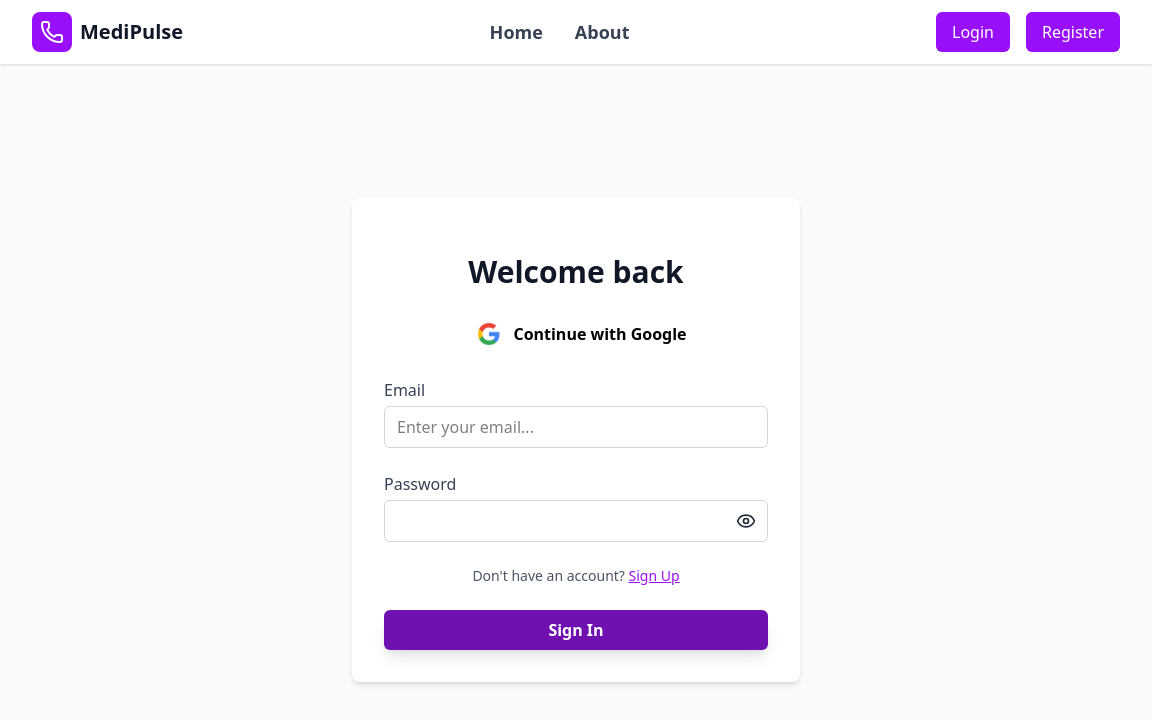
Scenario: form tests › should not login with invalid credentials
expect the heading "Welcome back" is shown: met, box [468,251,684,292]
Type "wronguser@example.com" into the field labelled "Email" at (576, 427), box [384,406,768,448]
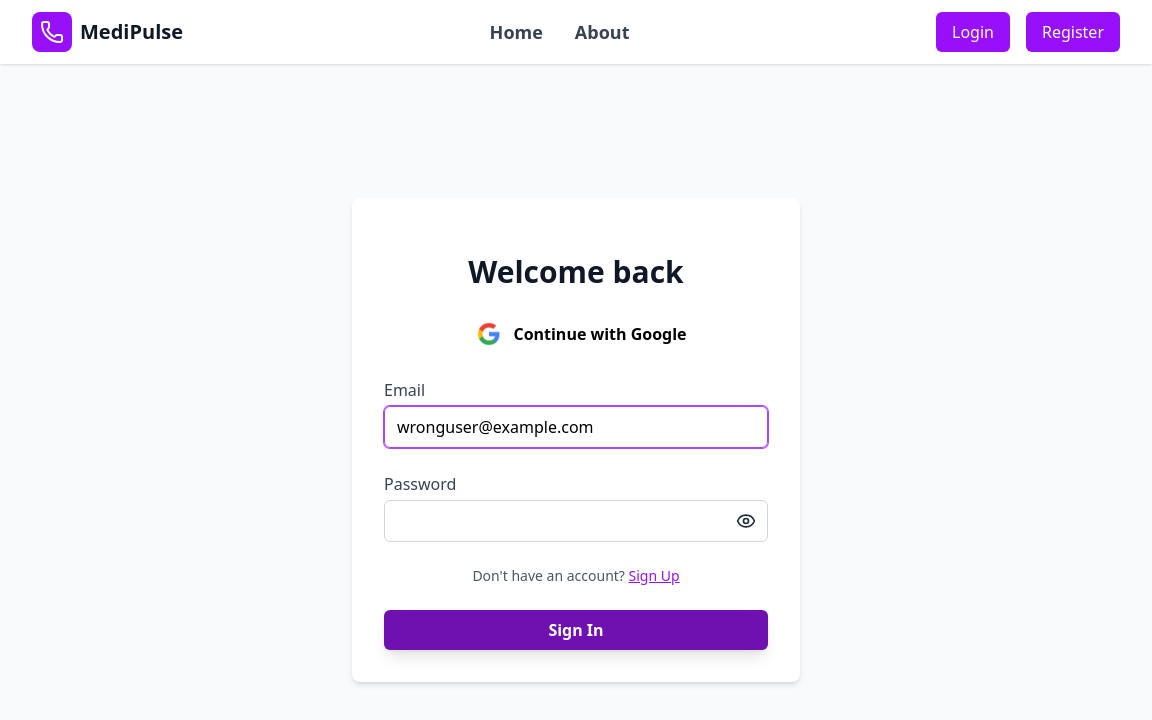
Type "wrongpassword" into the password field labelled "Password" at (576, 521), box [384,500,768,542]
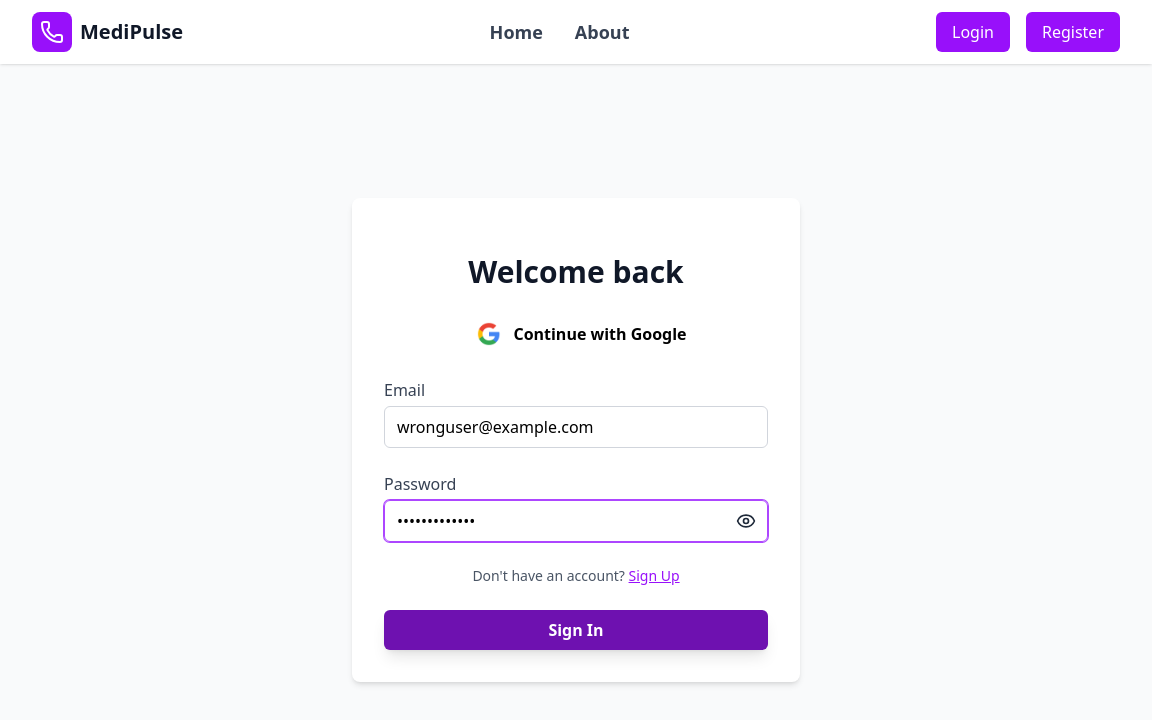
Click the button "Sign In" at (576, 630), box [384,610,768,650]
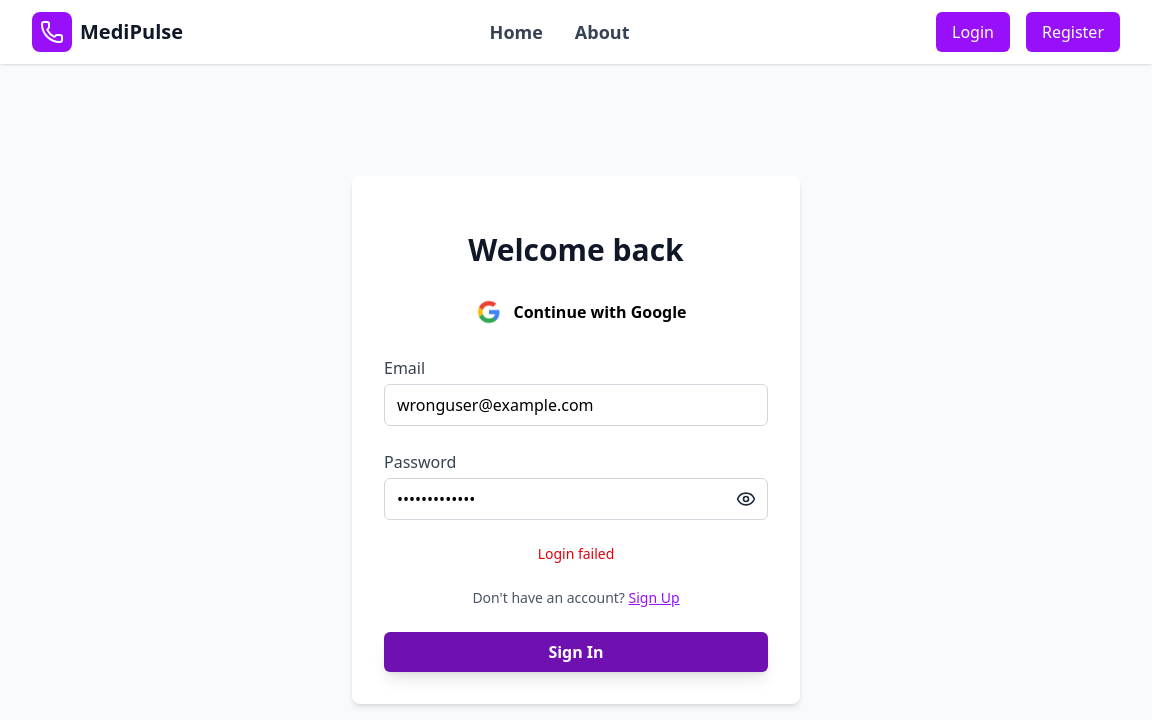
expect the text "Login failed" is shown: met, box [538,544,614,563]
